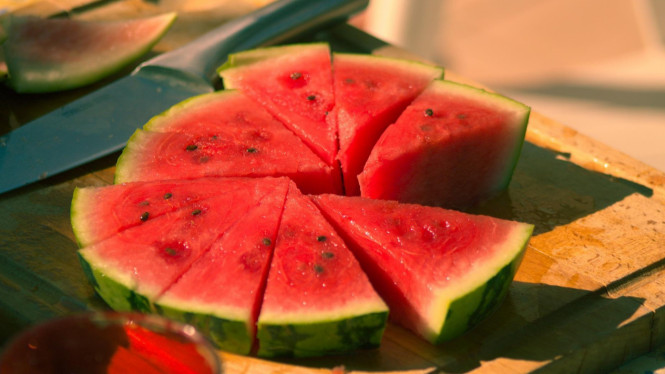Semangka: (352, 180, 552, 300), (245, 189, 369, 344), (373, 78, 545, 187), (127, 172, 256, 290), (192, 188, 298, 314)
